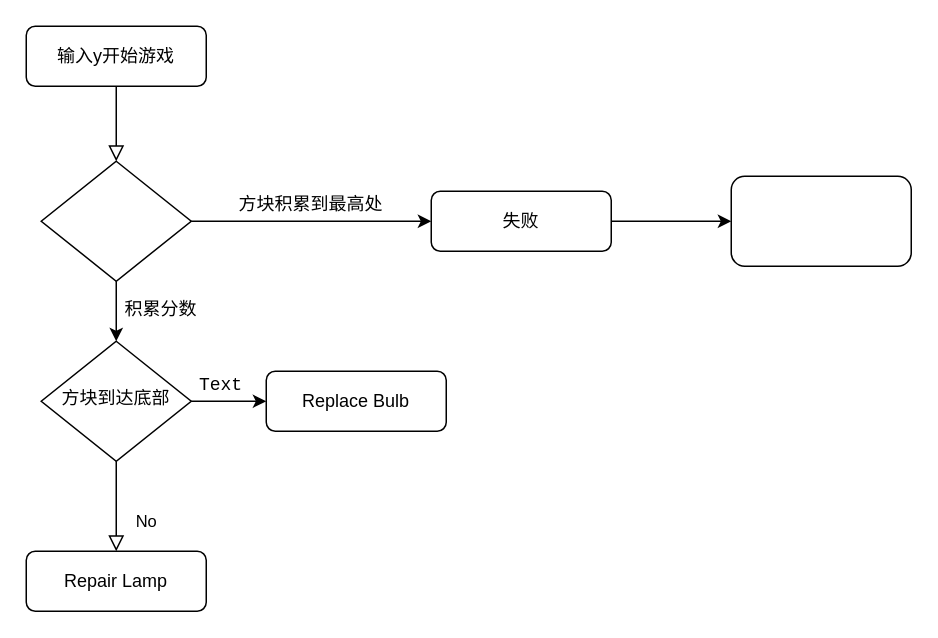
Some shapes in this 938 by 638 pixel diagram are drawn without their labels. Each missing label, with the centre of its shape:
输入y继续，n退出游戏: (820,220)
进行游戏: (115,220)
